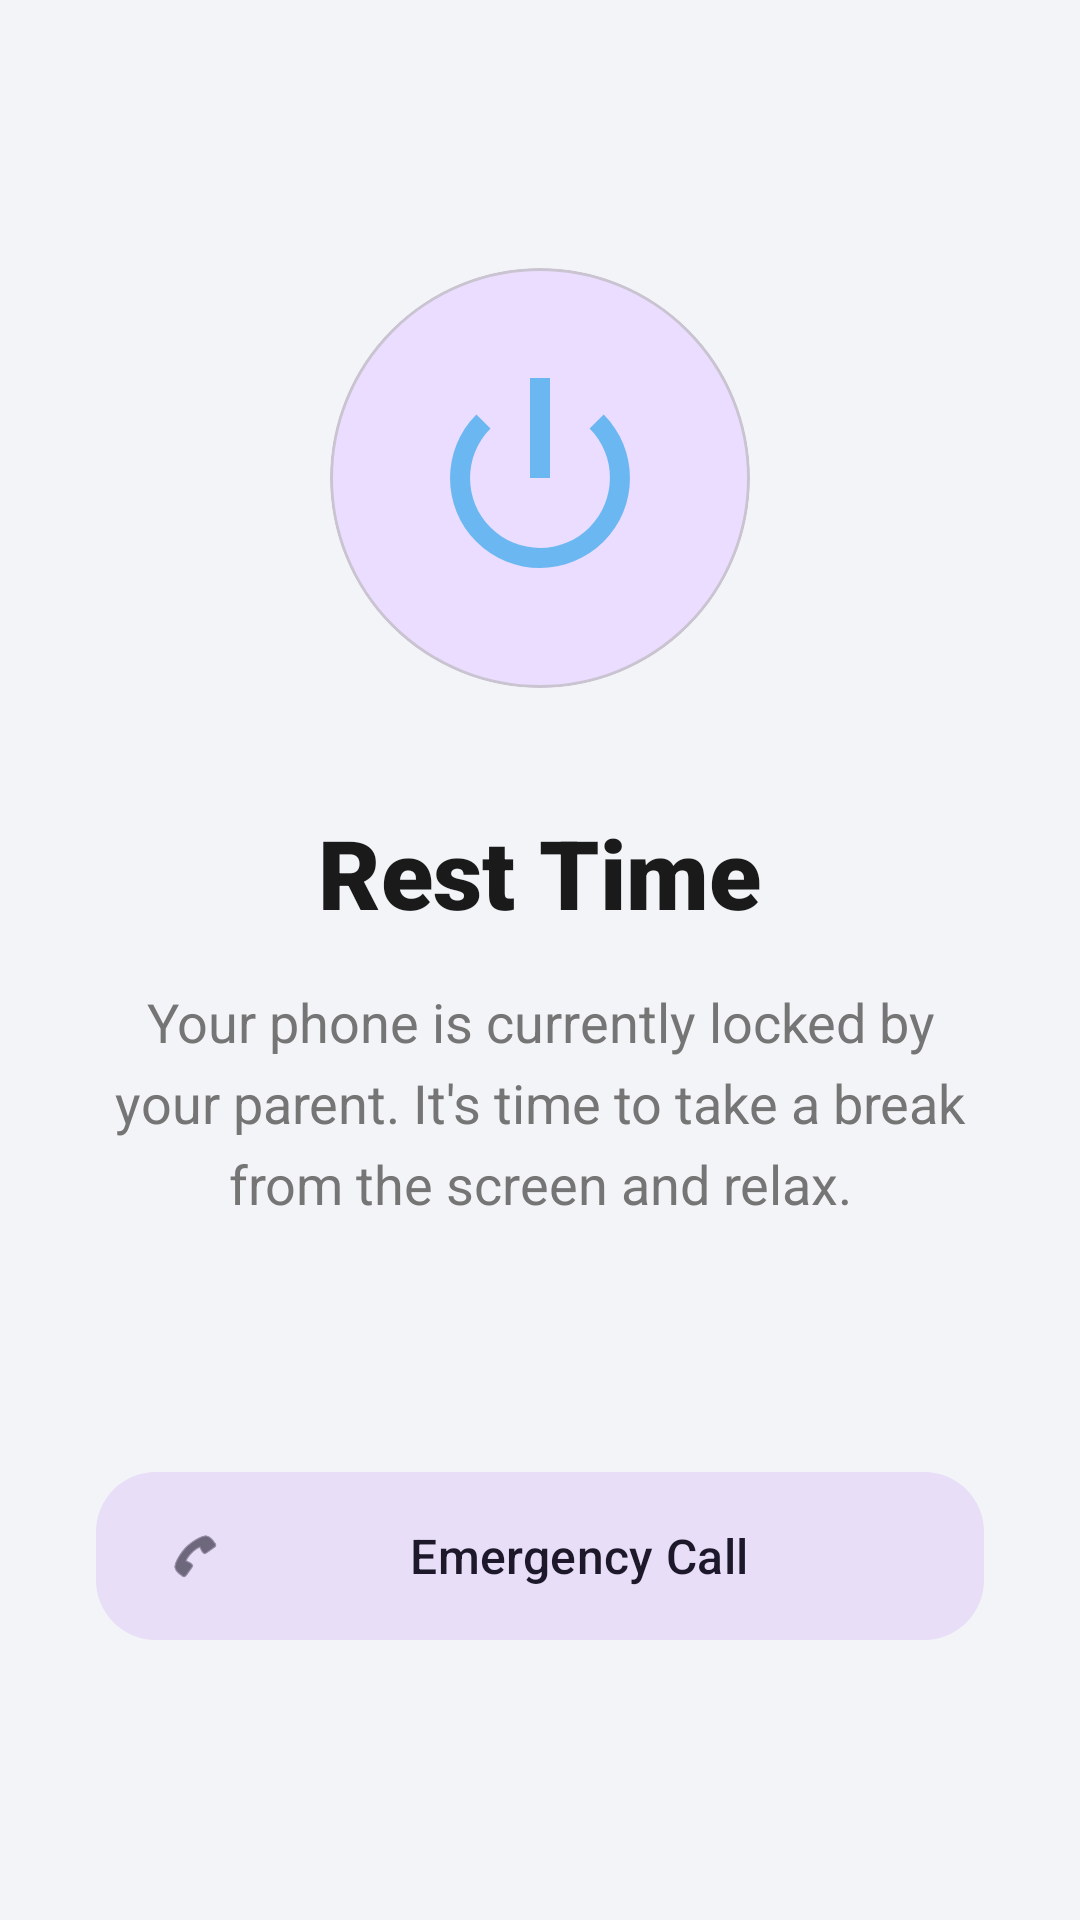

Named icons in this screenshot (1080x1920) and their bounding boxes, {"left": x1, "top": y1, "right": x2, "bottom": y2}:
lock power off: {"left": 450, "top": 378, "right": 630, "bottom": 568}
